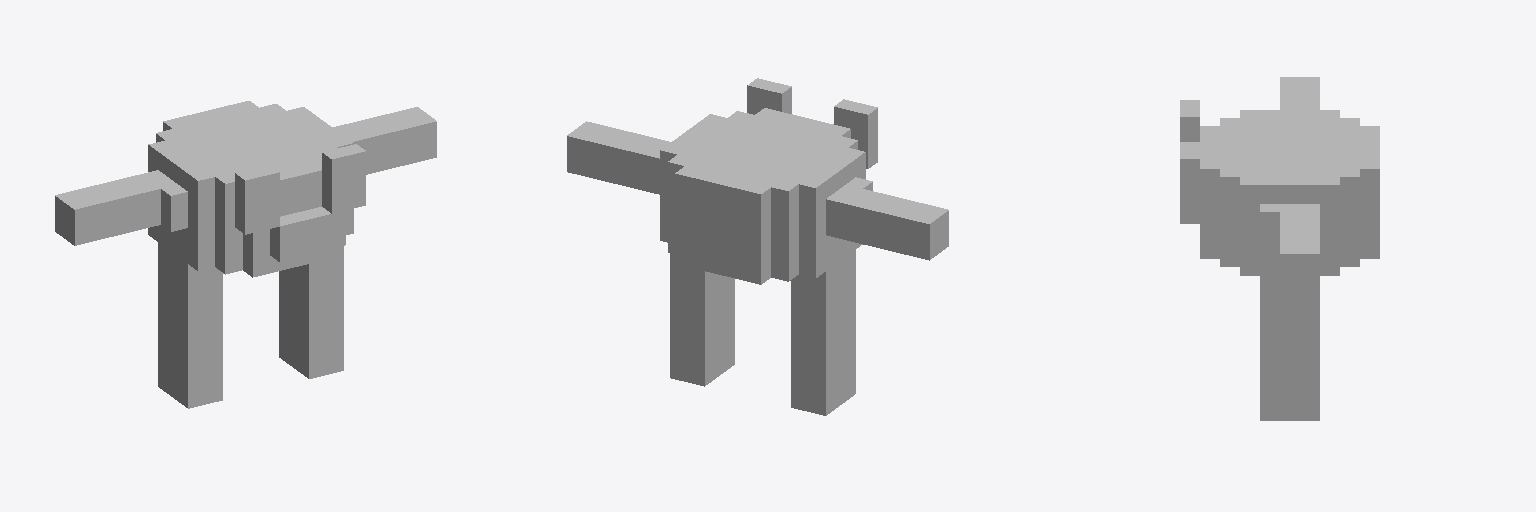
Rendered from Roomba!WEEEEN..obj.
3 views of the same model, side by side, from view 1: azimuth 30°, elevation 25°; view 2: azimuth 150°, elevation 25°; view 3: azimuth 270°, elevation 25° (orthographic).
Parts seen in each view (by area): view 1: object 1; view 2: object 1; view 3: object 1.
Boxes of the visible parts, x1,y1,x2,y2 form: object 1: [55, 101, 436, 408]; object 1: [567, 78, 948, 415]; object 1: [1180, 77, 1379, 420].
Bounding box in the file's own units: 2.1 × 1.4 × 1.